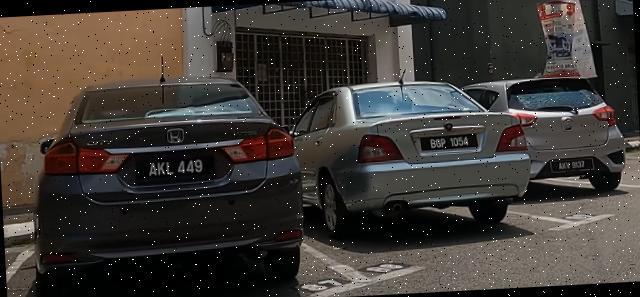License_Plate: (140, 155, 212, 181), (419, 132, 480, 153), (552, 159, 592, 172)
car: (25, 56, 309, 297), (288, 66, 536, 239), (458, 70, 629, 200)
